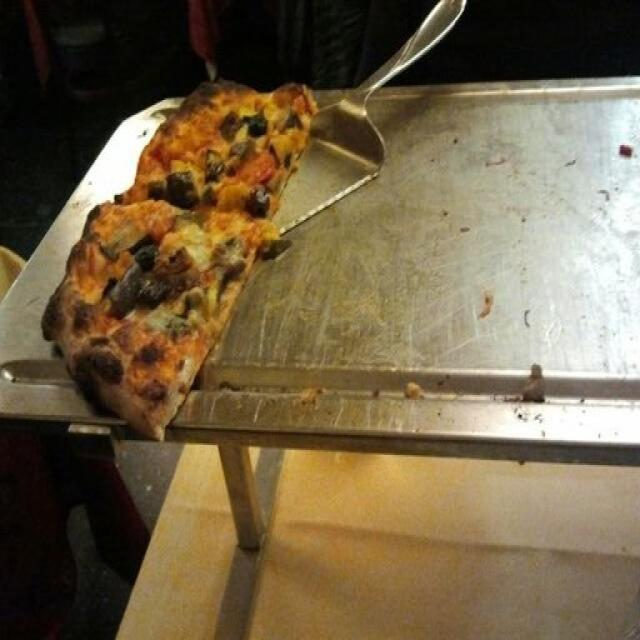Pizza: (40, 82, 324, 442)
